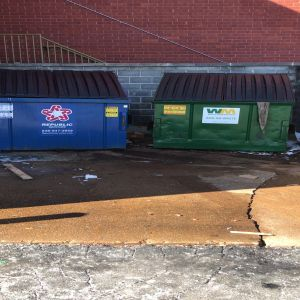Dumpster: (1, 69, 133, 161), (149, 71, 297, 152)
